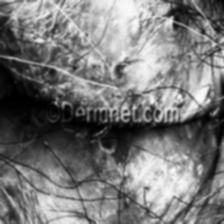Toxin: (20, 35, 56, 101), (15, 104, 47, 146), (98, 125, 118, 154)
